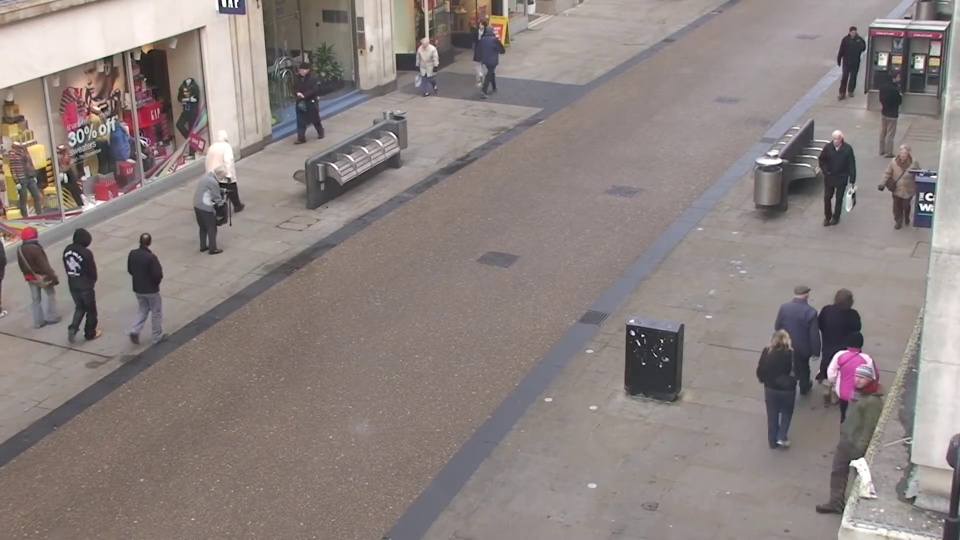pedestrian: (814, 357, 875, 519), (827, 314, 884, 464), (753, 319, 807, 468), (813, 279, 867, 419), (17, 217, 75, 338), (779, 271, 830, 408), (65, 219, 120, 339), (132, 221, 182, 341), (875, 141, 920, 247), (204, 162, 245, 268), (812, 131, 851, 231), (217, 125, 254, 221), (872, 67, 911, 154), (831, 26, 863, 102), (286, 61, 316, 140), (409, 35, 436, 108), (482, 19, 507, 88), (468, 16, 492, 83)
